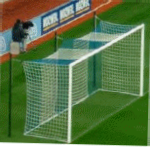goals: (21, 18, 147, 143)
